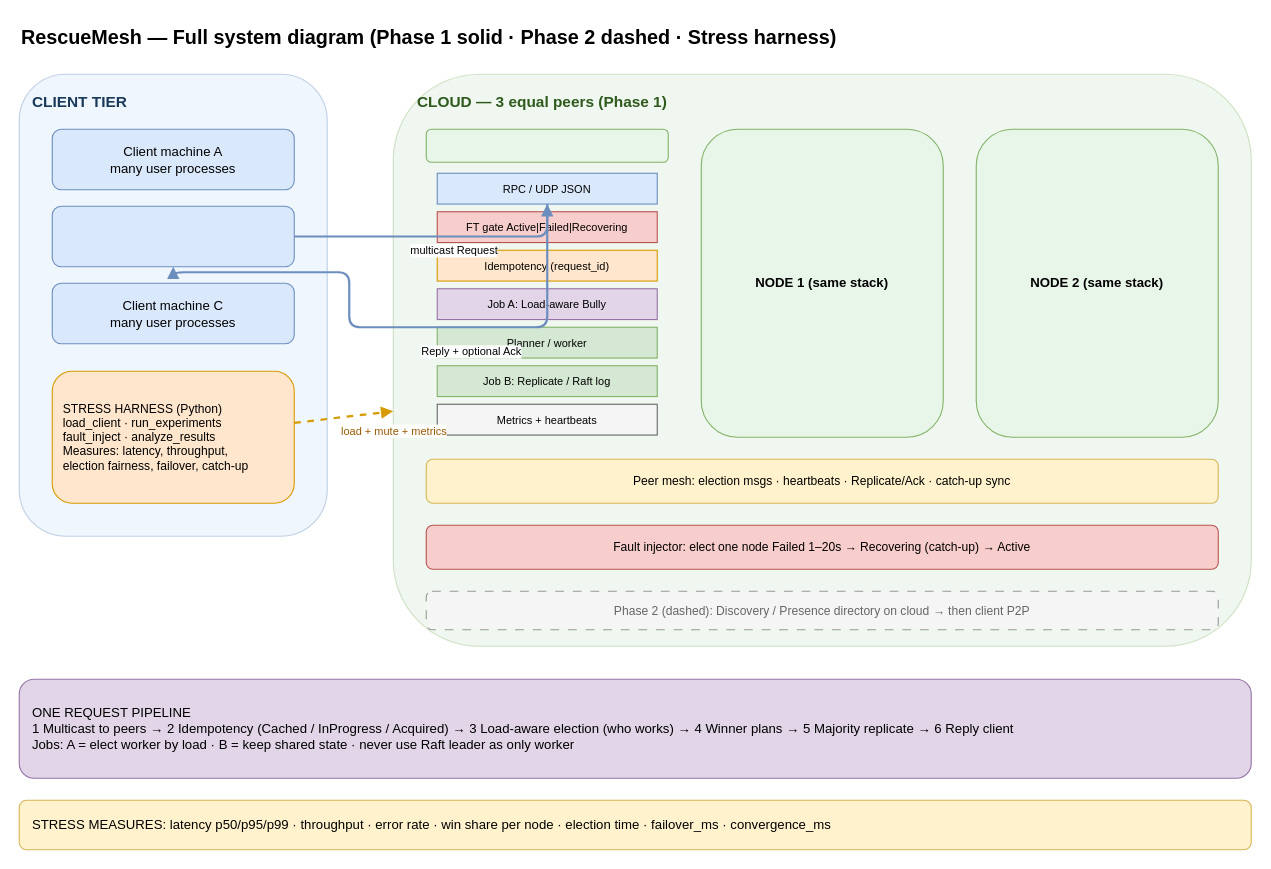
Some shapes in this 1271 by 869 pixel diagram are drawn without their labels. The shapes that lost their labels are listed below. From the top down, each one's centre as x and y in pixels, then its label:
At pixel 546 145: "NODE 0".
At pixel 172 236: "Client machine B many user processes".
